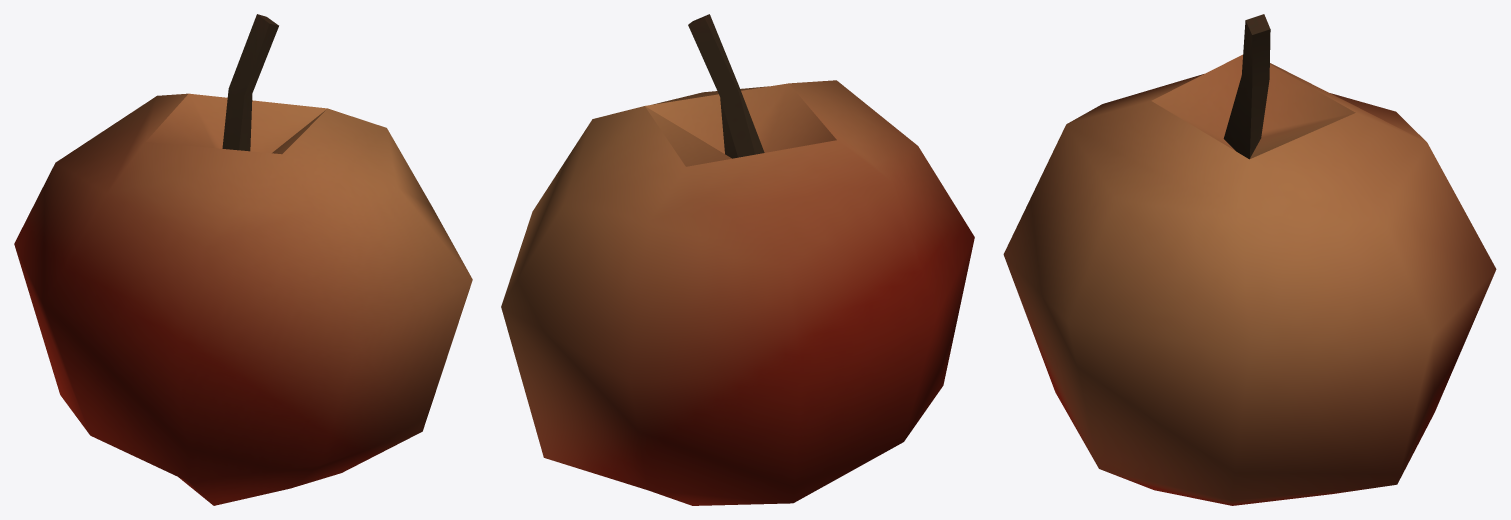
Rendered from object_fruit_apple.fbx.
3 renders of one model, left to right at view 1: azimuth 30°, elevation 25°; view 2: azimuth 150°, elevation 25°; view 3: azimuth 270°, elevation 25°, orthographic. The views are drawn at different scales.
Visible parts, largest first — view 1: object_fruit_apple; view 2: object_fruit_apple; view 3: object_fruit_apple.
Part boxes in pixels (x1,y1,x2,y2): object_fruit_apple: (14, 14, 472, 505); object_fruit_apple: (501, 14, 974, 505); object_fruit_apple: (1003, 14, 1496, 505).
Size of the model in its own units: 0.1211 by 0.1248 by 0.1293.
